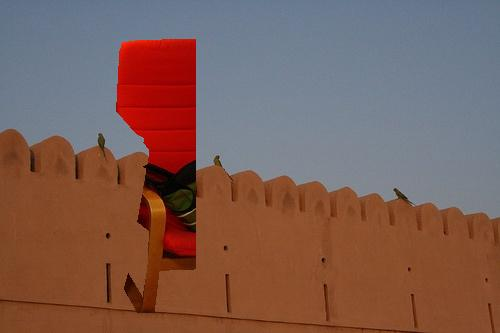tampered: (117, 40, 196, 313)
